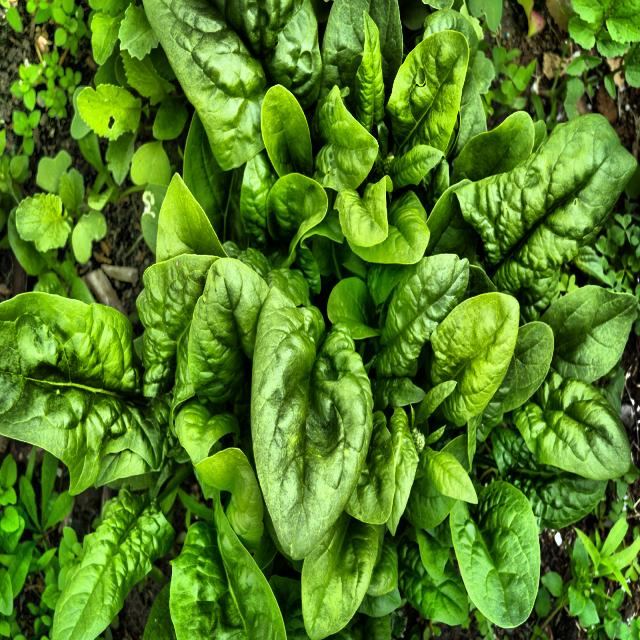spinach: (29, 3, 588, 623)
